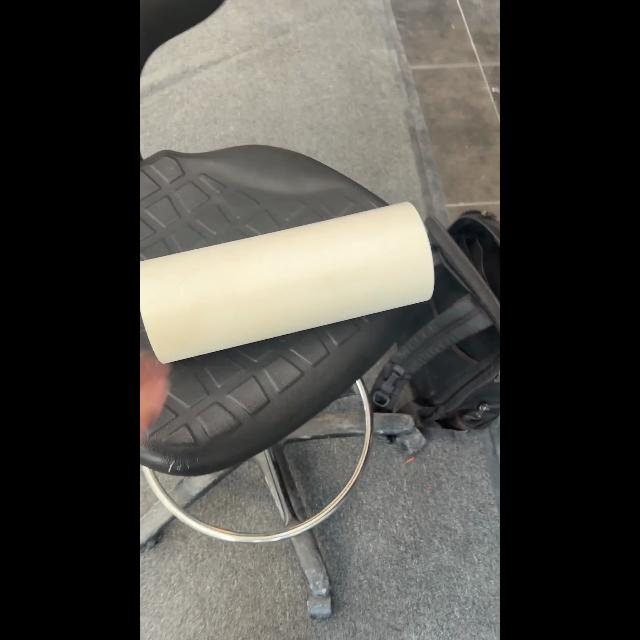CORAL: (140, 200, 436, 364)
